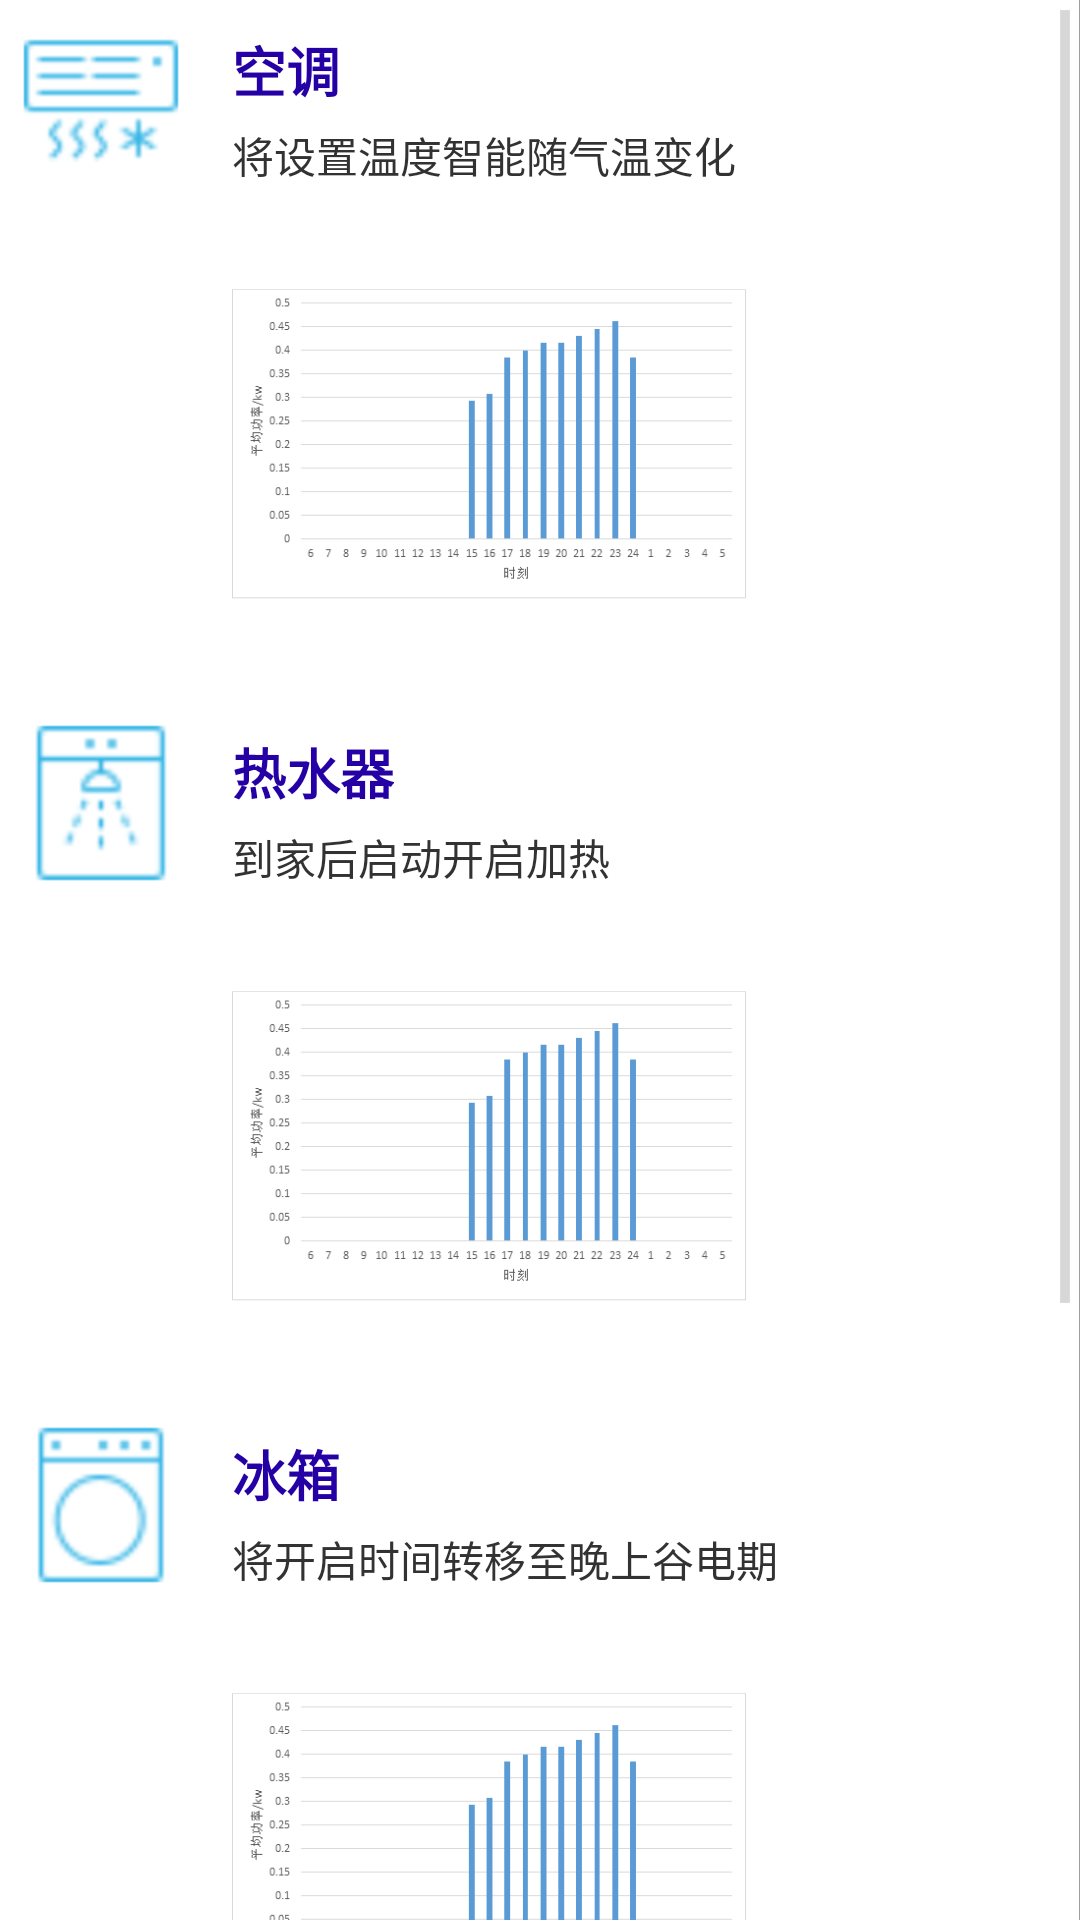

Screen size 1080px×1920px. Icon name, then its box in pixels as (x1, y1, x2, y2):
appliance: (23, 39, 179, 160), (36, 725, 166, 881), (37, 1427, 165, 1583)
